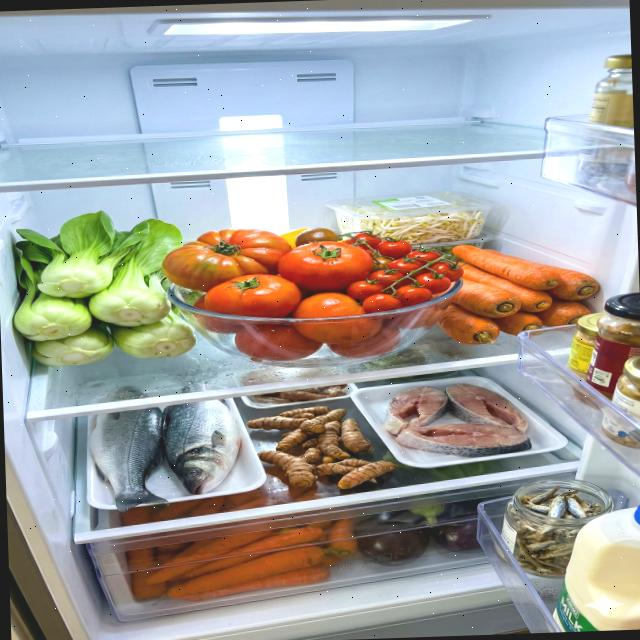anchovies: (508, 482, 606, 578)
bean_sprouts: (342, 200, 484, 246)
carrot: (130, 517, 360, 604), (434, 239, 601, 346)
fish: (87, 398, 244, 513), (382, 380, 532, 460)
pakchoy: (8, 207, 200, 368)
tomato: (202, 222, 468, 364)
turmeric: (247, 402, 400, 492)
